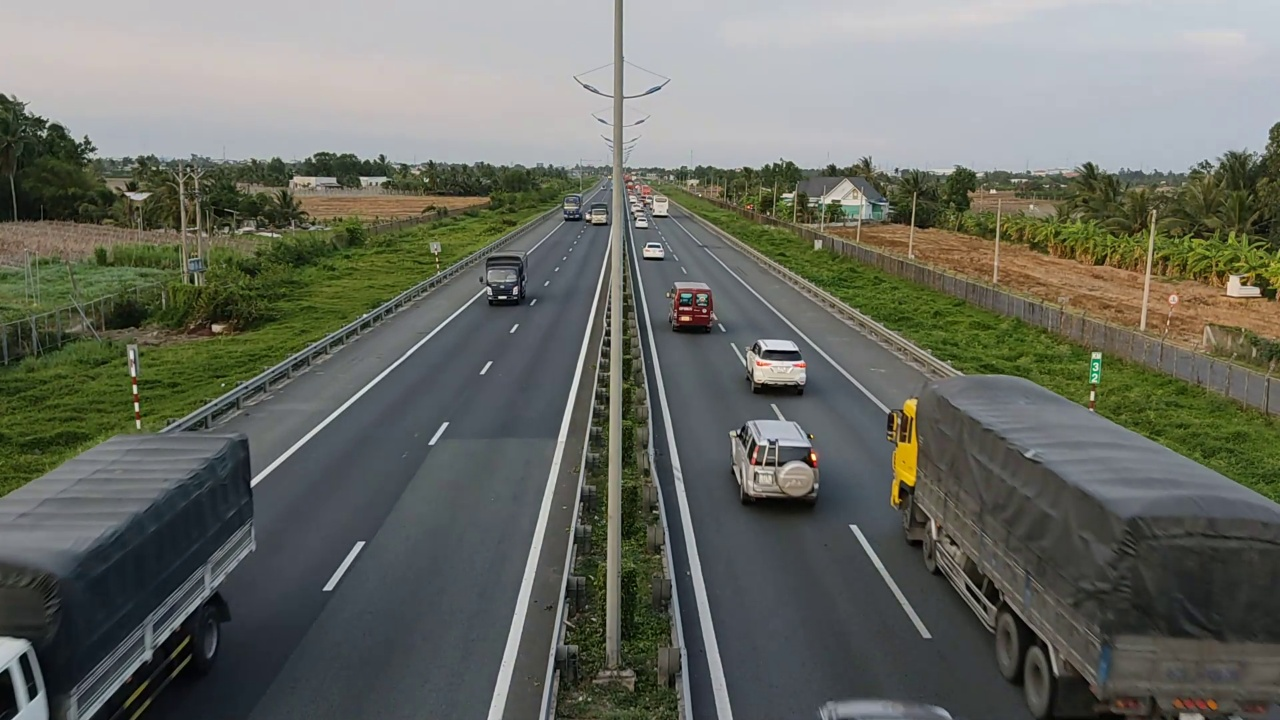car: (725, 410, 827, 511), (742, 338, 808, 395), (666, 275, 717, 333), (642, 240, 665, 259)
truck: (885, 373, 1279, 716), (1, 429, 257, 715), (480, 246, 528, 306)
